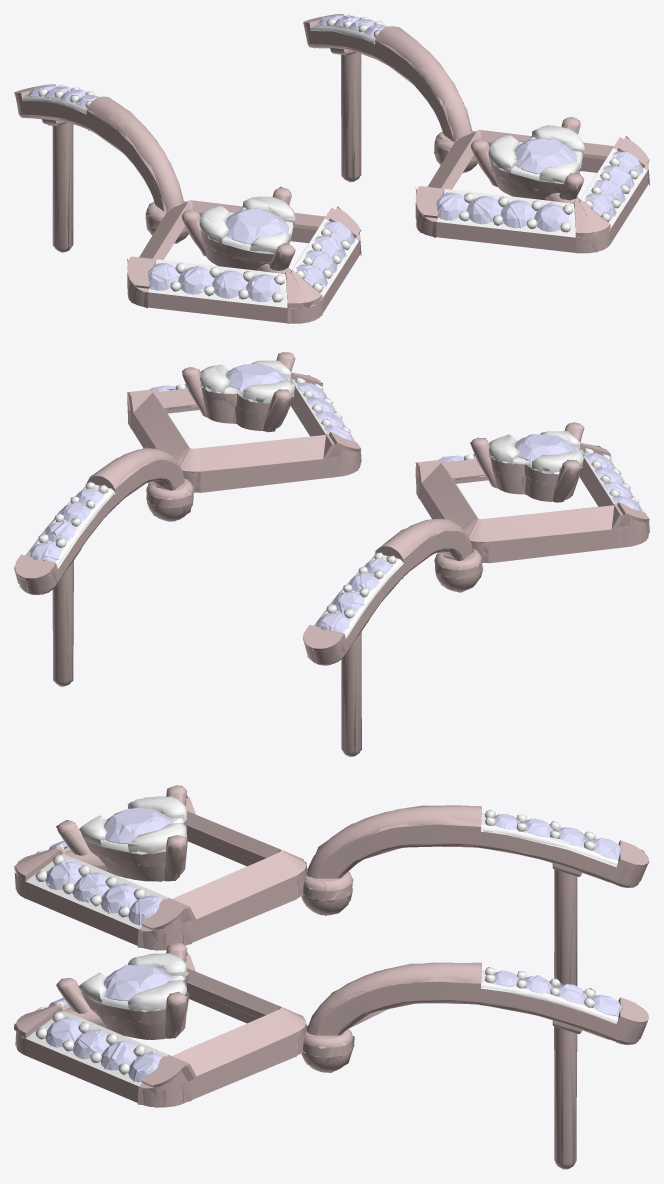
3 renders of one model, top to bottom at view 1: azimuth 30°, elevation 25°; view 2: azimuth 150°, elevation 25°; view 3: azimuth 270°, elevation 25°, orthographic. The views are drawn at different scales.
Visible parts, largest first — view 1: highPolyMesh, lowPolyMesh; view 2: highPolyMesh, lowPolyMesh; view 3: highPolyMesh, lowPolyMesh.
Part boxes in pixels (x1,y1,x2,y2): highPolyMesh: (14,14,648,323); lowPolyMesh: (14,14,649,323); highPolyMesh: (15,352,648,756); lowPolyMesh: (14,353,649,754); highPolyMesh: (16,785,648,1169); lowPolyMesh: (14,785,649,1169).
Size of the model in its own units: 0.0265 by 0.00904 by 0.0254.
